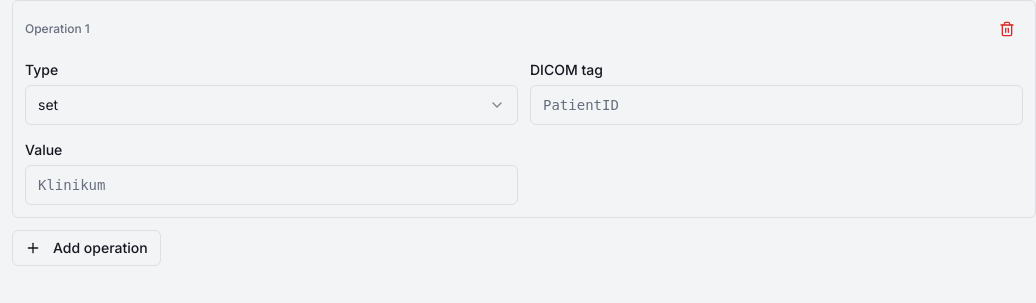
OperationsEditor › flags a tag that is neither a DICOM tag nor a keyword
In the field labelled "DICOM tag": (776, 105) 530,85 -> 1023,125, type "0010-0010"
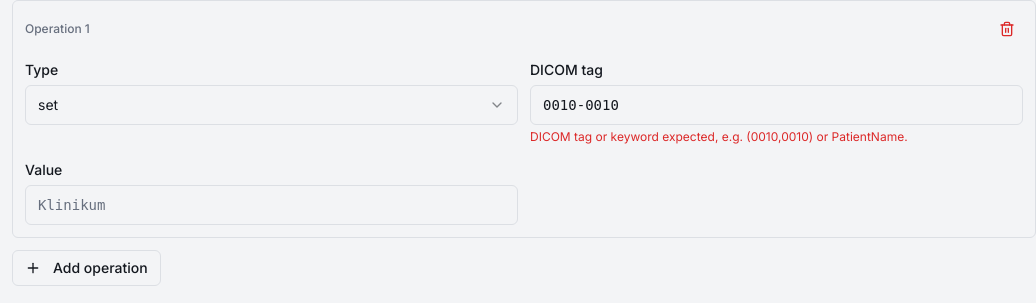
Expected: the message shows "DICOM tag or keyword", 530,129 -> 908,144
